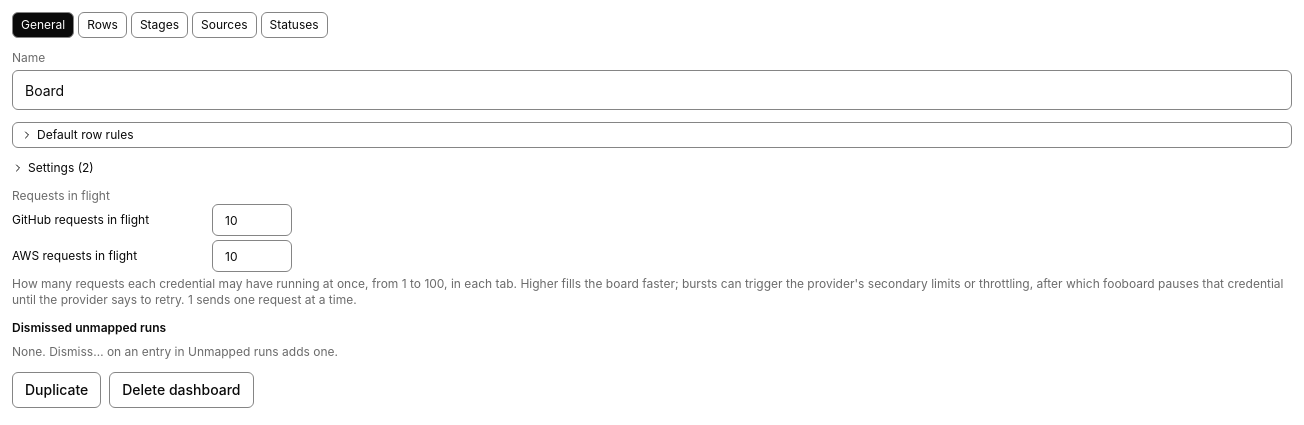
the Amplify app picker › skips an opt-in region that rejects the key
Press the mouse on the tab "Rows" at (103, 25), box [78,12,127,38]
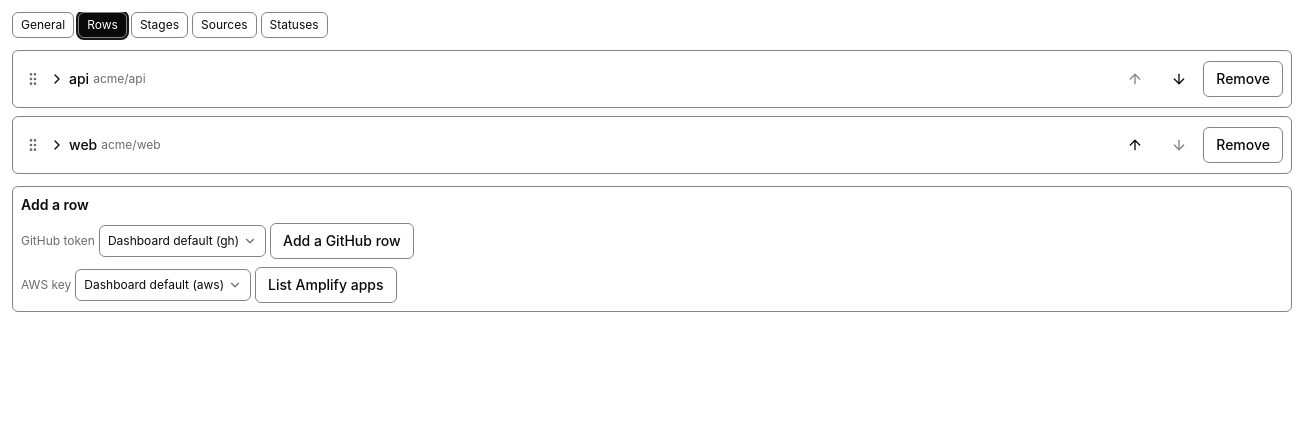
Click the button "List Amplify apps".
click(326, 285)  # box [255,267,397,303]
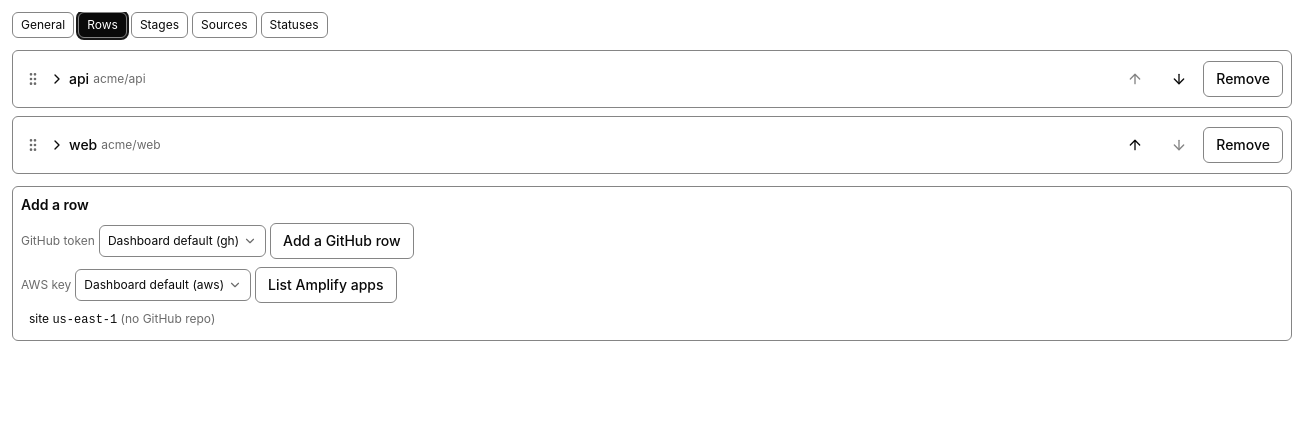
Check: the button "site us-east-1 (no GitHub repo)" is shown, box [21,307,1283,332]
